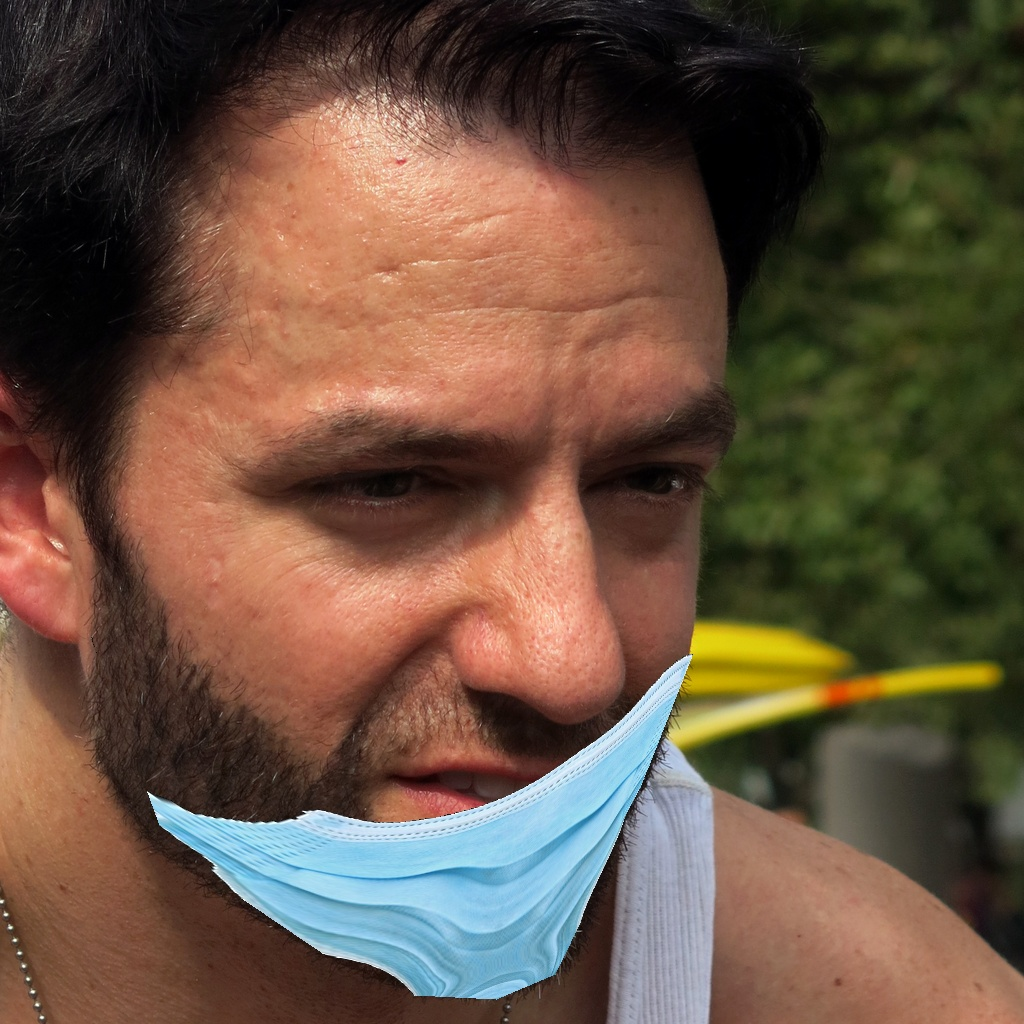mascarilla_mal_puesta: (94, 253, 732, 1024)
